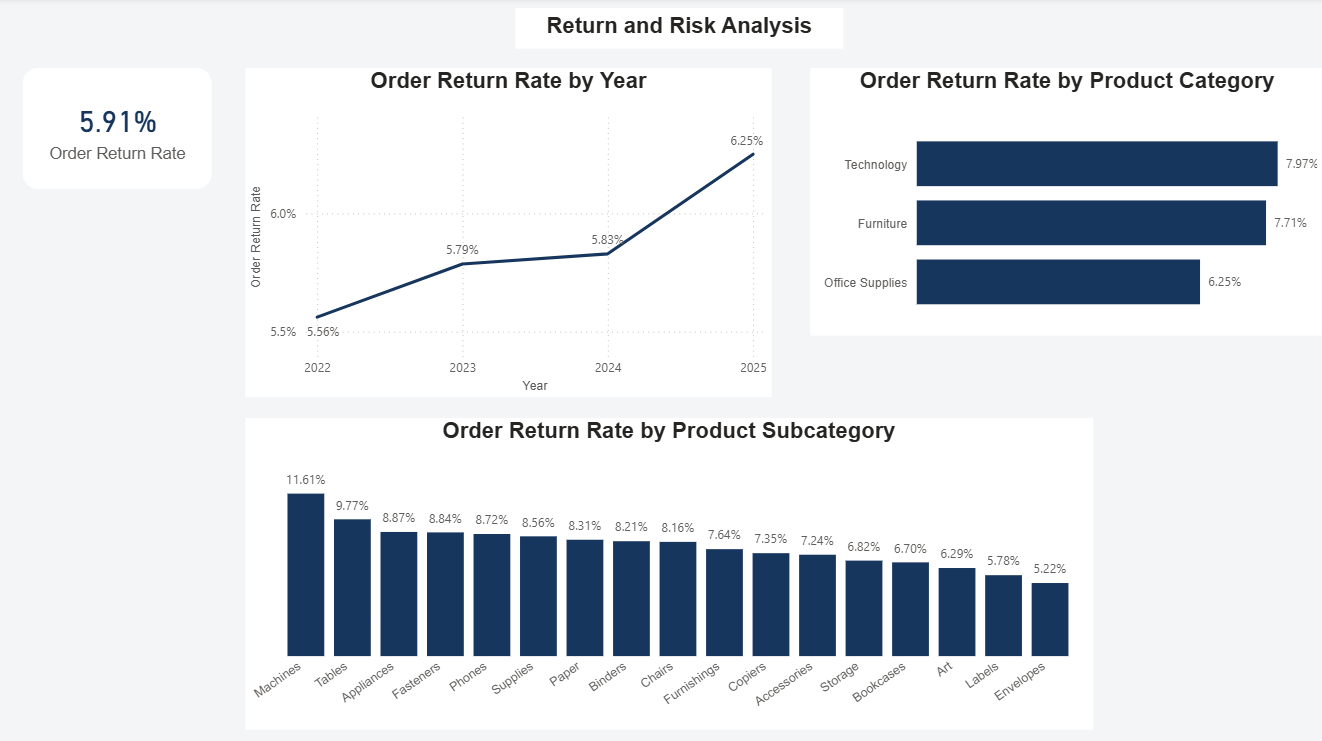

What the dashboard file says about the page in this screenshot:
{"tool":"powerbi","page":{"name":"Returns & Risk Analysis","canvas":[1280,720],"ordinal":2},"visuals":[{"type":"card","fields":{"Values":["_measures.Return rate"]},"box":[23.1,67.8,182.2,117],"z":0},{"type":"barChart","title":"Order Return Rate by Product Category","fields":{"Category":["Copy of Retail Sales Data - orders_cleaned.product_category"],"Y":["_measures.Return rate"]},"box":[783.4,67.8,496.3,258.3],"z":1000},{"type":"textbox","box":[497.7,9.8,316.7,39.1],"z":3000},{"type":"columnChart","title":"Order Return Rate by Product Subcategory","fields":{"Category":["Copy of Retail Sales Data - orders_cleaned.product_subcategory"],"Y":["_measures.Return rate"]},"box":[238.1,405.4,818.1,300.8],"z":4000},{"type":"lineChart","title":"Order Return Rate by Year","fields":{"Category":["Copy of Retail Sales Data - orders_cleaned.order_year"],"Y":["_measures.Return rate"]},"box":[238.1,67.9,508.3,317.9],"z":5000}]}

Visuals, with their boxes in screenshot pixels (x1, y1, x2, y2), scaled from the page's 1280x720 canvas onto the 1322x741 screenshot:
card - _measures.Return rate: pyautogui.locateOnScreen(24, 70, 212, 190)
"Order Return Rate by Product Category" barChart: pyautogui.locateOnScreen(809, 70, 1321, 336)
textbox: pyautogui.locateOnScreen(514, 10, 841, 50)
"Order Return Rate by Product Subcategory" columnChart: pyautogui.locateOnScreen(246, 417, 1091, 727)
"Order Return Rate by Year" lineChart: pyautogui.locateOnScreen(246, 70, 771, 397)
